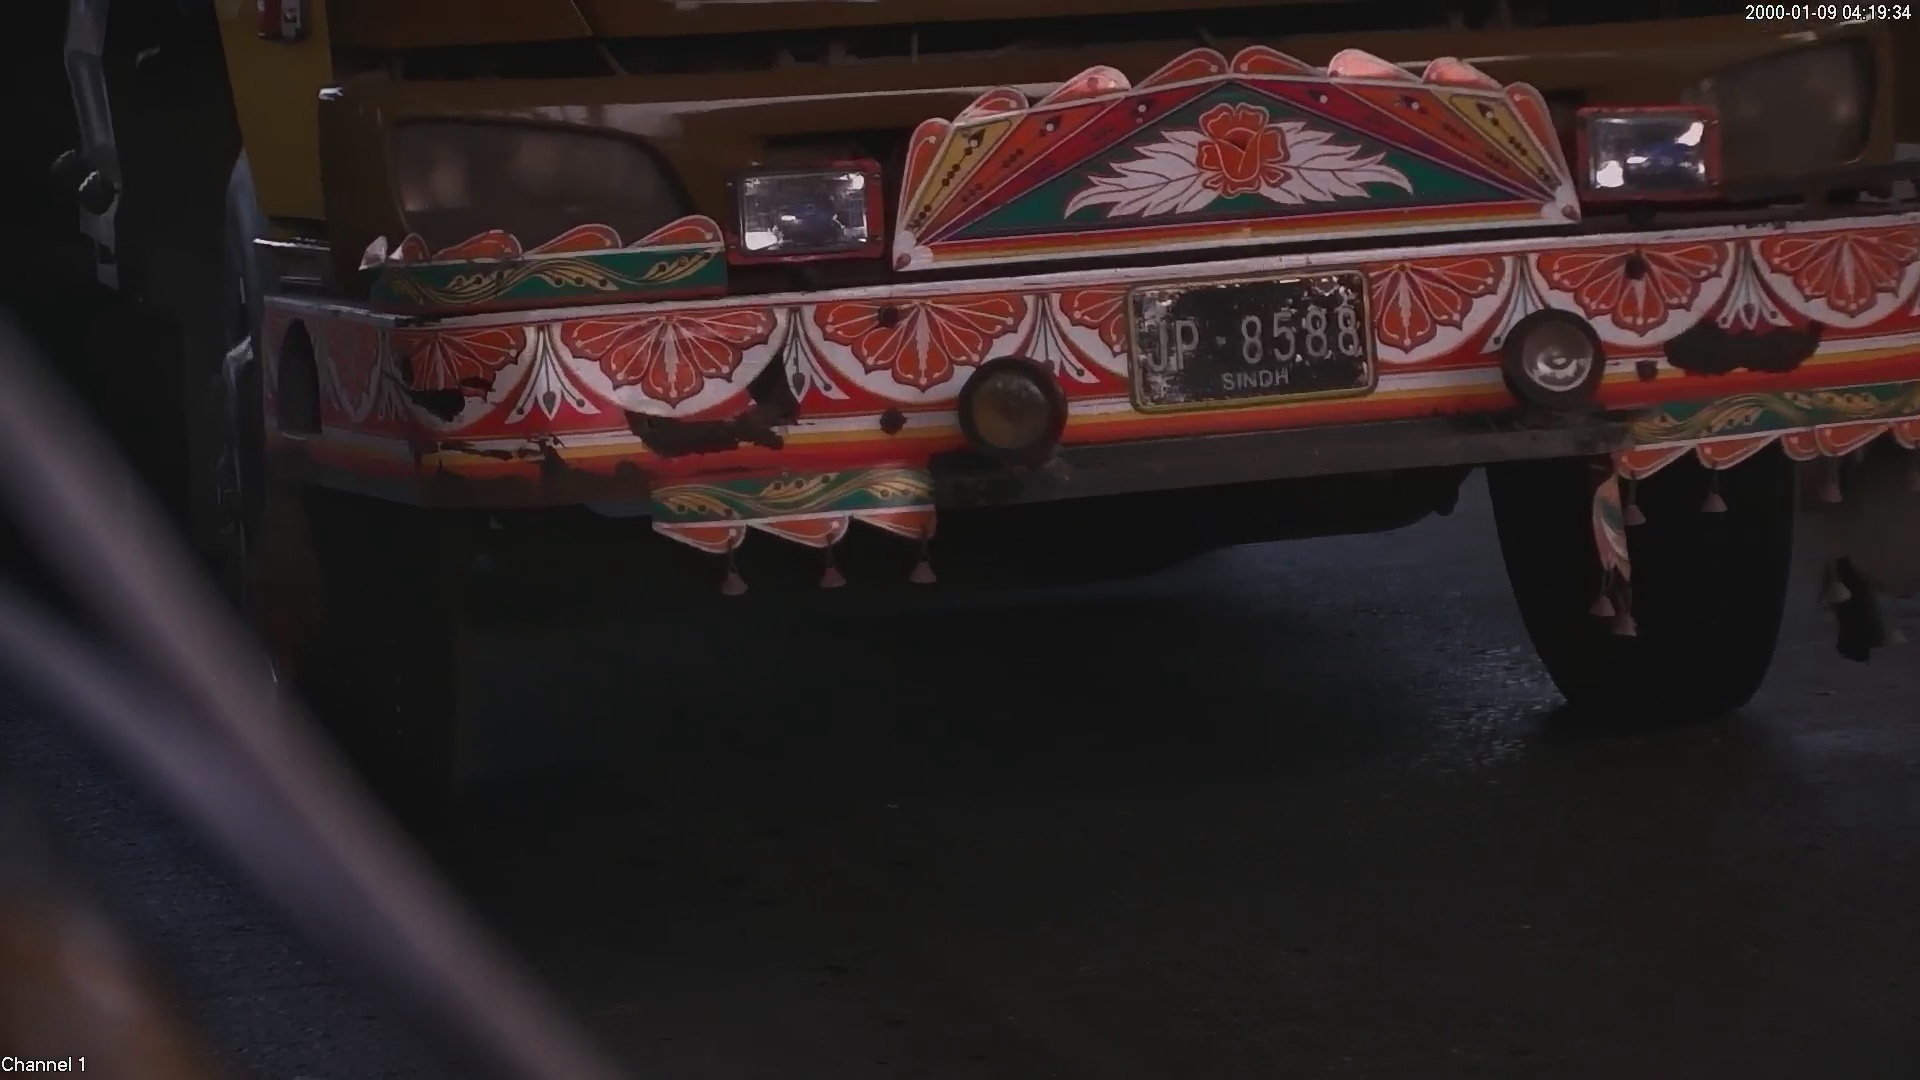Number_Plate: (1100, 253, 1400, 418)
Undefined: (384, 120, 893, 292), (928, 79, 1556, 218), (1589, 99, 1889, 262)
